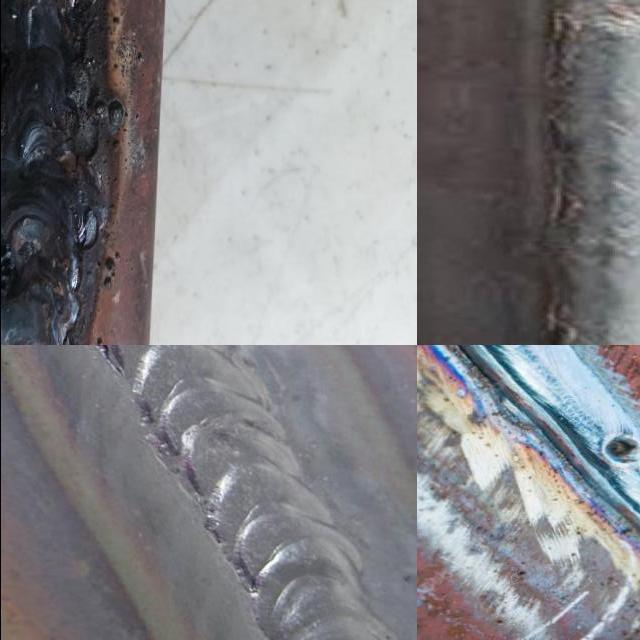defect: (597, 433, 639, 464), (0, 227, 14, 301)
